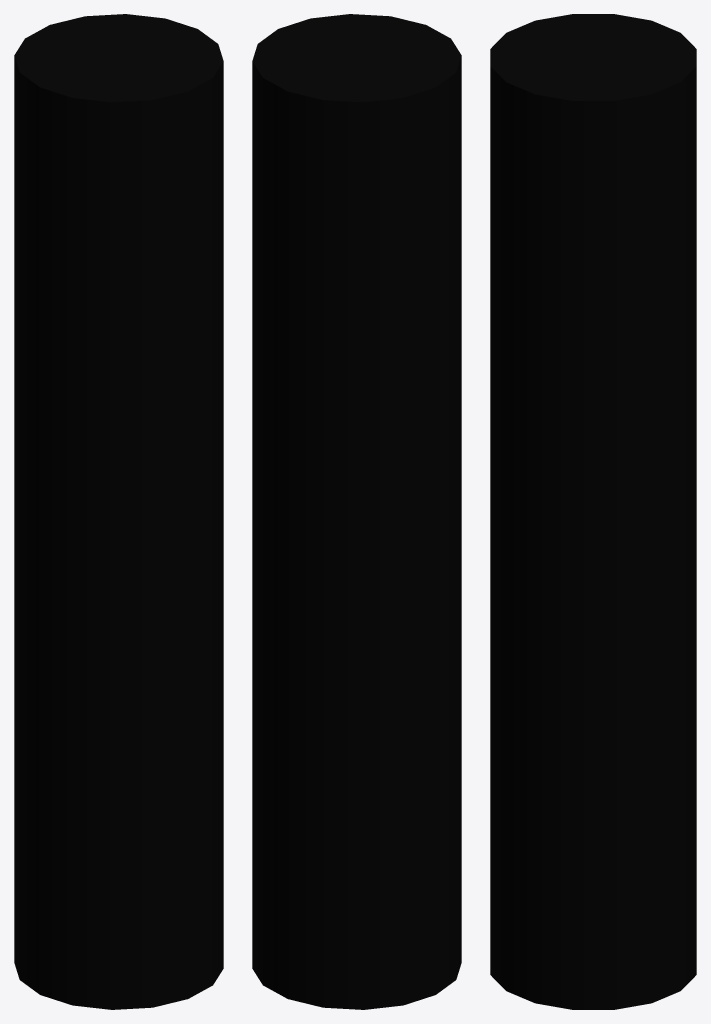
File: post_sw.obj
The picture shows the model from 3 angles, left to right: view 1: azimuth 30°, elevation 25°; view 2: azimuth 150°, elevation 25°; view 3: azimuth 270°, elevation 25°; orthographic projection.
Parts seen in each view (by area): view 1: post_sw__post_sw; view 2: post_sw__post_sw; view 3: post_sw__post_sw.
Boxes of the visible parts, x1,y1,x2,y2 form: post_sw__post_sw: (14, 14, 223, 1009); post_sw__post_sw: (252, 14, 461, 1009); post_sw__post_sw: (490, 14, 696, 1009).
Bounding box in the file's own units: 0.19 × 0.925 × 0.19.
